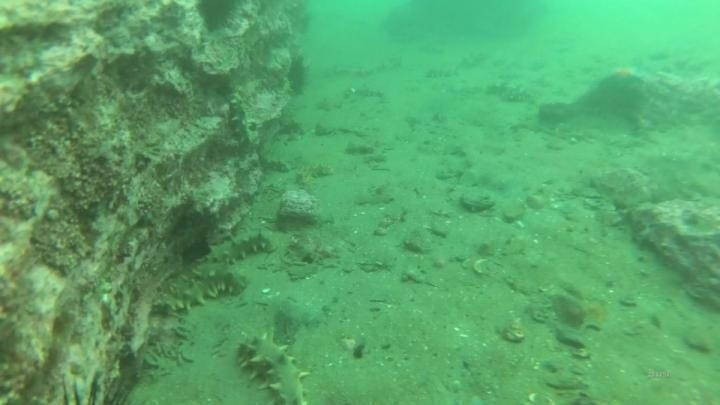echinus: (193, 0, 242, 35), (283, 51, 311, 99)
holothurian: (234, 329, 312, 405), (151, 264, 249, 318), (191, 228, 276, 276), (225, 77, 262, 151), (484, 78, 536, 106)
starfish: (602, 60, 647, 89)
